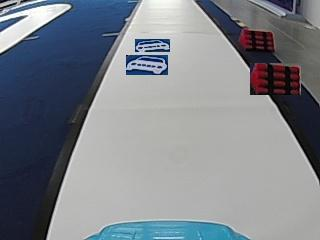bomb: (238, 28, 275, 50)
